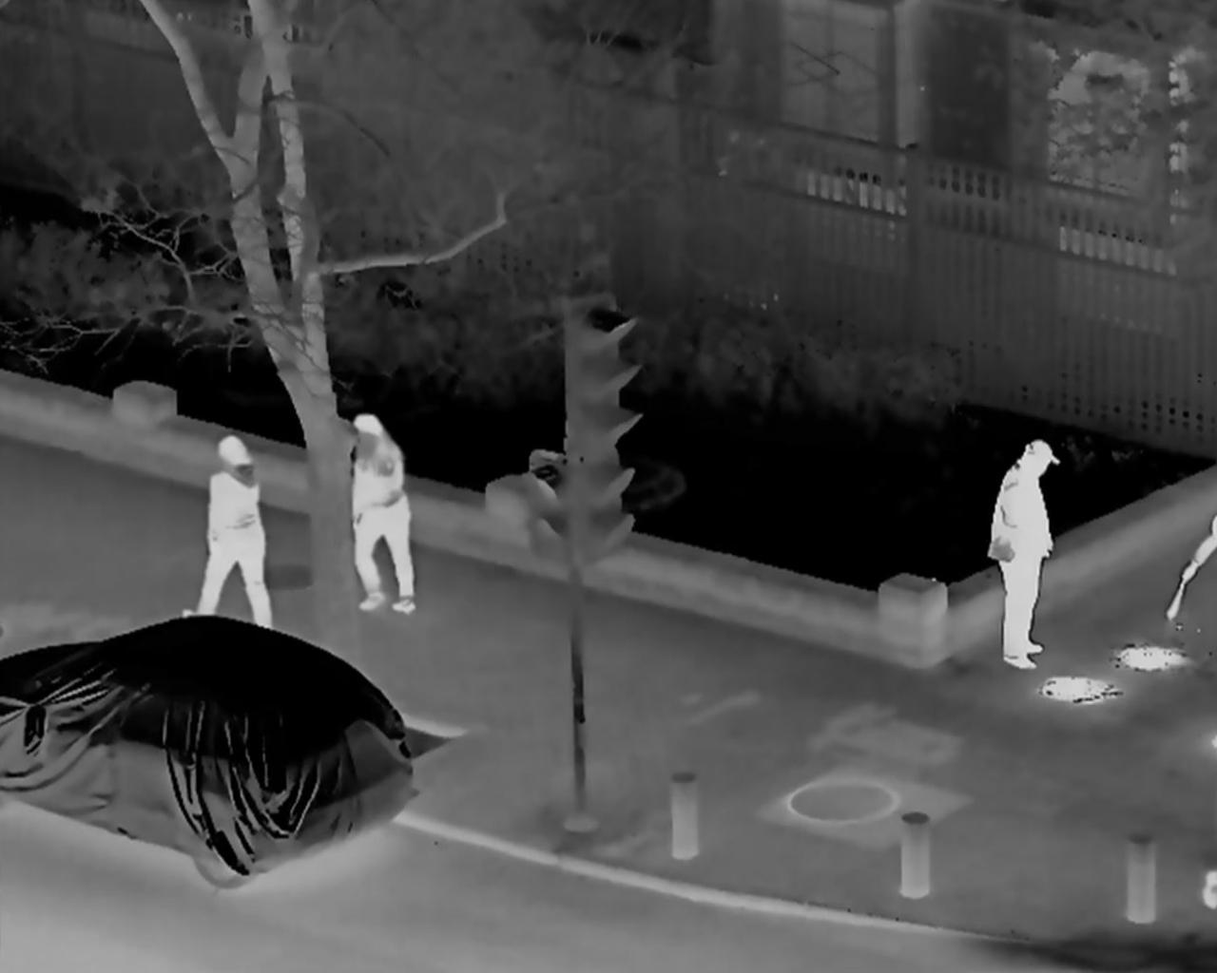person: (183, 435, 284, 646), (988, 438, 1049, 670), (346, 412, 416, 612)
